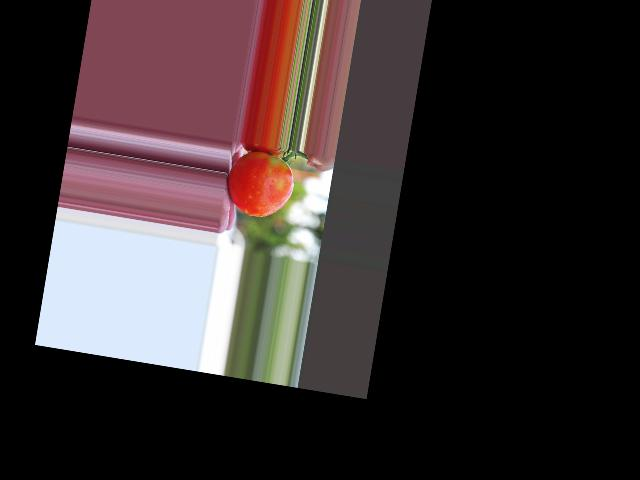tomato: (223, 148, 298, 221)
